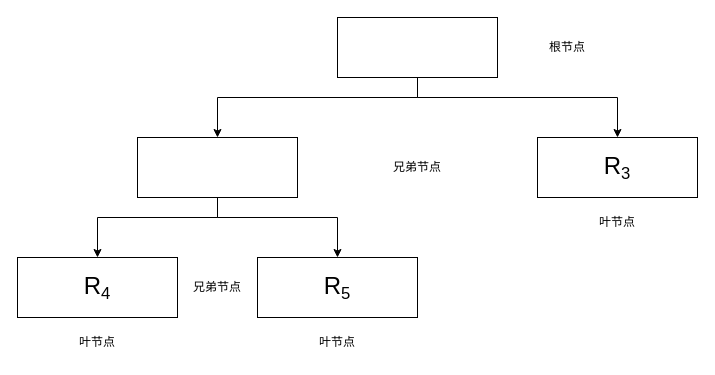
This 715x375 diagram has some shape labels left out. Here are the shapes that lost their labels. From the top down, the box of each, then its label:
(336, 16, 498, 78): R 1
(136, 136, 298, 198): R 2
